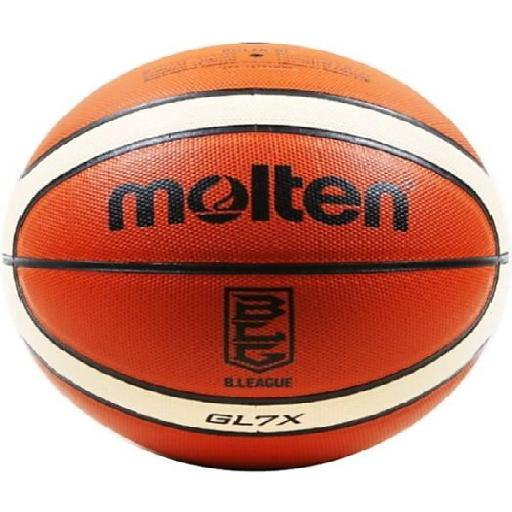ball: (3, 41, 512, 472)
